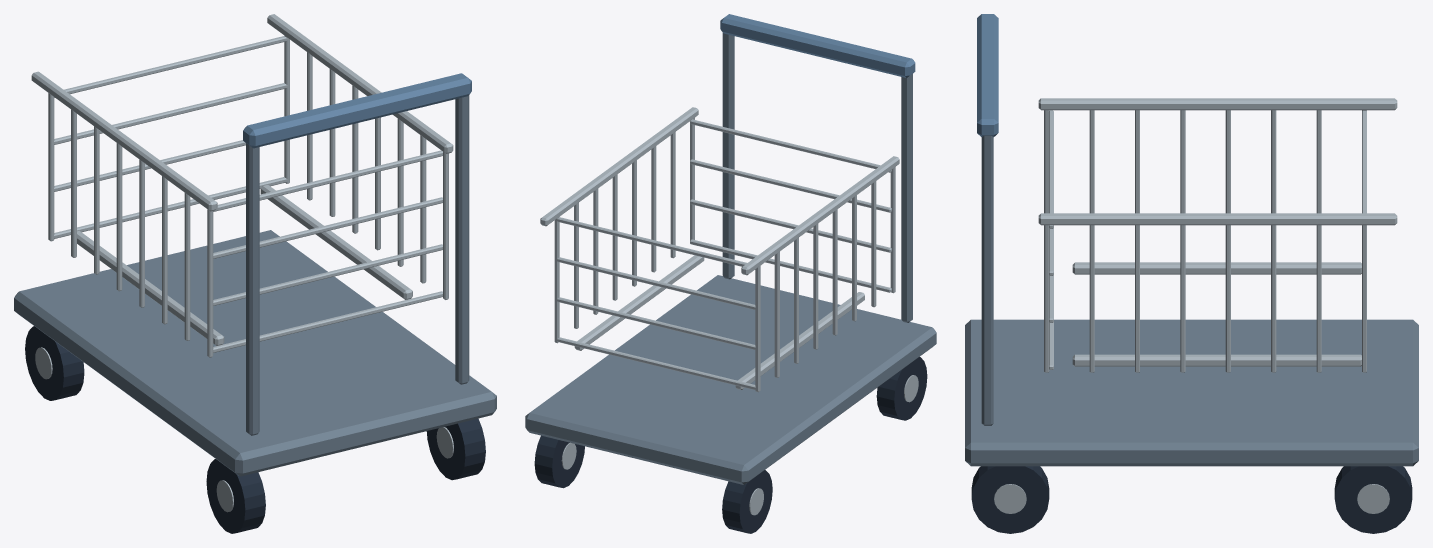
Rendered from retail_04.glb.
3 views of the same model, side by side, from view 1: azimuth 30°, elevation 25°; view 2: azimuth 150°, elevation 25°; view 3: azimuth 270°, elevation 25° (orthographic). The views are drawn at different scales.
Visible parts, largest first — view 1: CartBase, BasketWire (×24), HandleStem (×2), Wheel (×3), HandleGrip, BasketRim (×2), BasketBase (×2); view 2: CartBase, BasketWire (×24), HandleStem (×2), Wheel (×3), HandleGrip, BasketRim (×2), BasketBase (×2); view 3: CartBase, BasketWire (×14), BasketRim (×2), Wheel (×2), BasketBase (×2), HandleStem, HandleGrip, WheelHub (×2).
Boxes of the visible parts, x1=… form: CartBase: x1=14, y1=230, x2=496, y2=476; BasketWire (×24): x1=48, y1=35, x2=448, y2=357; HandleStem (×2): x1=246, y1=95, x2=469, y2=435; Wheel (×3): x1=25, y1=326, x2=485, y2=533; HandleGrip: x1=243, y1=73, x2=471, y2=148; BasketRim (×2): x1=31, y1=14, x2=453, y2=211; BasketBase (×2): x1=77, y1=185, x2=412, y2=345; CartBase: x1=525, y1=275, x2=936, y2=484; BasketWire (×24): x1=554, y1=118, x2=895, y2=392; HandleStem (×2): x1=722, y1=32, x2=912, y2=322; Wheel (×3): x1=534, y1=357, x2=927, y2=533; HandleGrip: x1=720, y1=14, x2=915, y2=77; BasketRim (×2): x1=540, y1=107, x2=899, y2=275; BasketBase (×2): x1=574, y1=255, x2=864, y2=389; CartBase: x1=965, y1=319, x2=1418, y2=466; BasketWire (×14): x1=1044, y1=110, x2=1366, y2=372; BasketRim (×2): x1=1038, y1=98, x2=1397, y2=225; Wheel (×2): x1=971, y1=466, x2=1412, y2=533; BasketBase (×2): x1=1072, y1=262, x2=1361, y2=366; HandleStem: x1=981, y1=135, x2=993, y2=425; HandleGrip: x1=977, y1=14, x2=998, y2=136; WheelHub (×2): x1=994, y1=484, x2=1389, y2=513.
Size of the model in its own units: 0.7 by 1.04 by 1.05.
